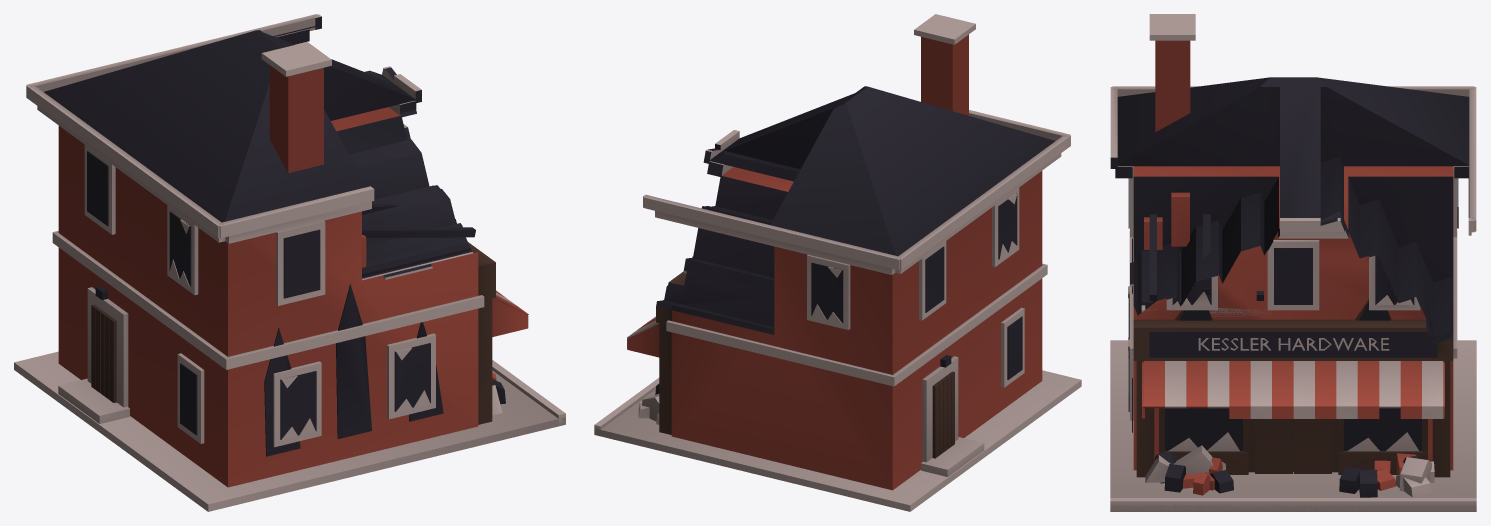
The model's file is bld.kessler-hardware.w5.lod2.glb.
The picture shows the model from 3 angles, left to right: view 1: azimuth 30°, elevation 25°; view 2: azimuth 150°, elevation 25°; view 3: azimuth 270°, elevation 25°; orthographic projection. The views are drawn at different scales.
Visible parts, largest first — view 1: body, door_cellar; view 2: body, door_cellar; view 3: body.
Boxes of the visible parts, x1=… form: body: x1=14, y1=14, x2=565, y2=511; door_cellar: x1=91, y1=304, x2=116, y2=402; body: x1=594, y1=14, x2=1081, y2=511; door_cellar: x1=932, y1=371, x2=954, y2=458; body: x1=1110, y1=14, x2=1476, y2=511.
Size of the model in its own units: 10 by 10.73 by 9.4.
